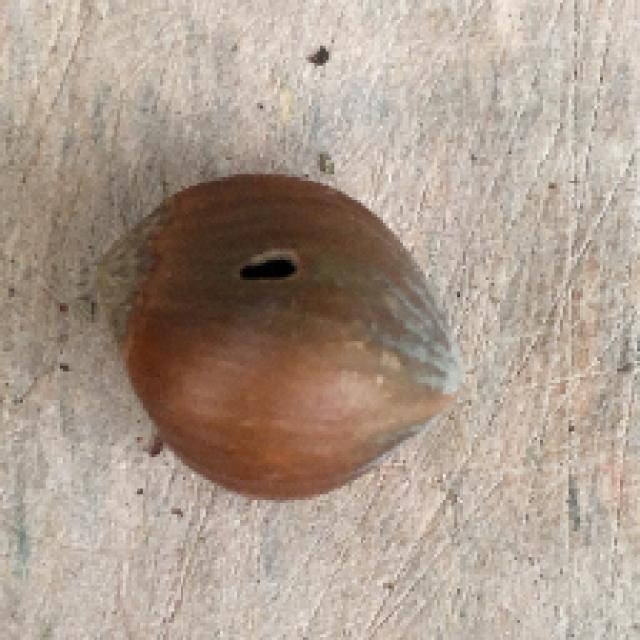damagedHazelnut: (83, 167, 478, 500)
